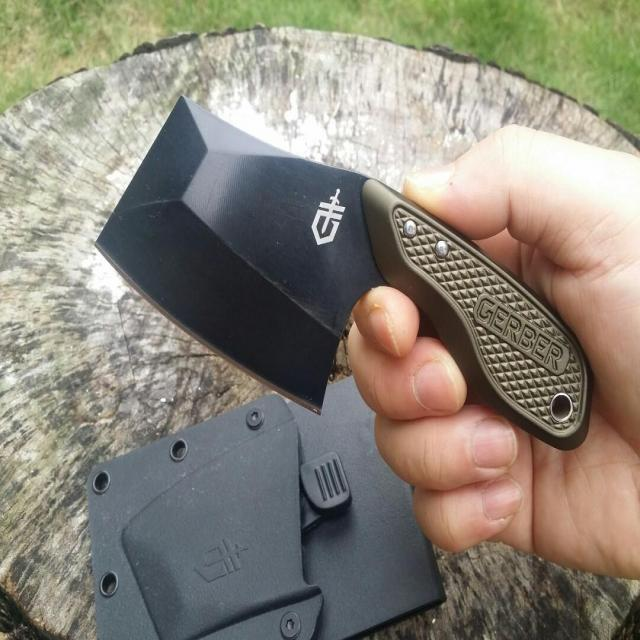cleaver: (90, 96, 602, 442)
